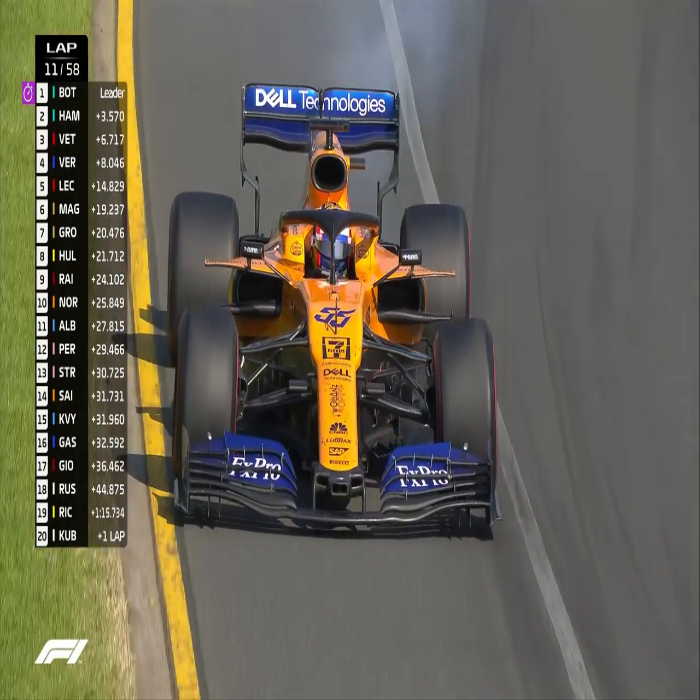f1_car: (155, 71, 523, 549)
